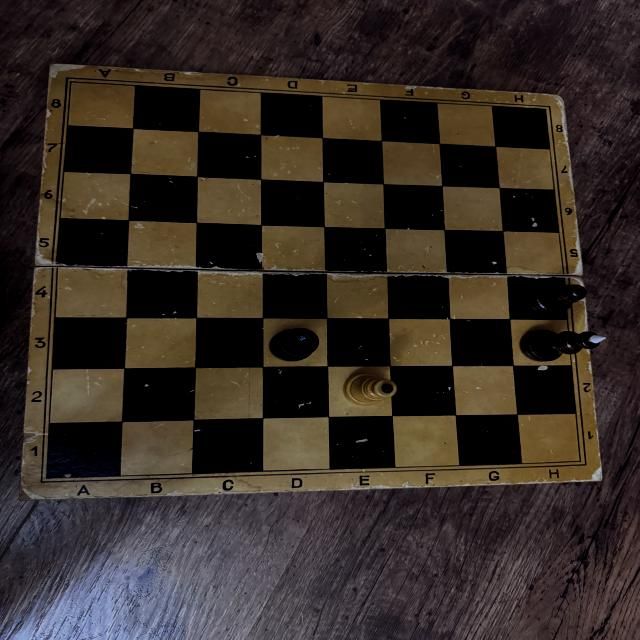black-king: (519, 328, 607, 361)
black-pawn: (526, 276, 586, 318)
black-rook: (269, 327, 322, 362)
white-king: (346, 372, 397, 406)
